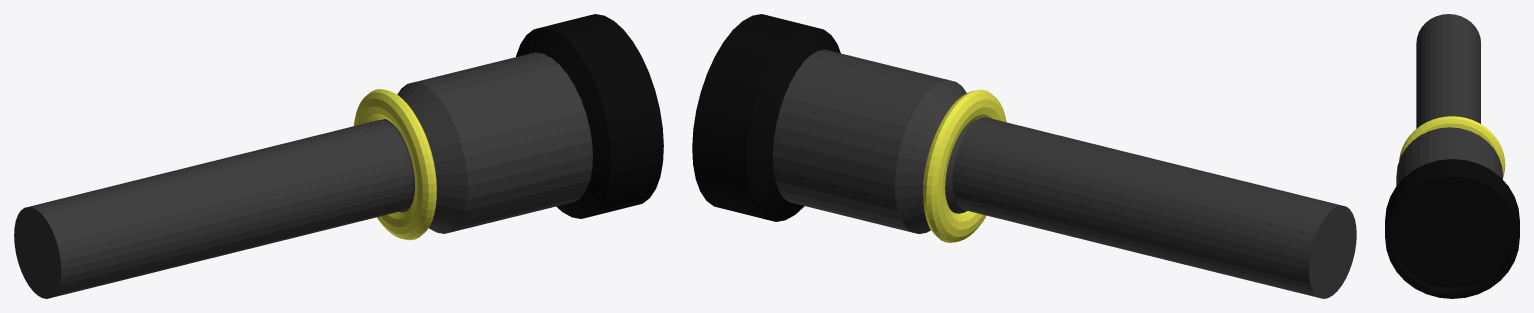
The model's file is Items.fbx_FlashLight.fbx.
The picture shows the model from 3 angles, left to right: view 1: azimuth 30°, elevation 25°; view 2: azimuth 150°, elevation 25°; view 3: azimuth 270°, elevation 25°; orthographic projection. The views are drawn at different scales.
Parts seen in each view (by area): view 1: Cylinder.004, Cylinder.005, Cylinder.006, Torus.001; view 2: Cylinder.004, Cylinder.005, Cylinder.006, Torus.001; view 3: Cylinder.006, Cylinder.004, Cylinder.005, Torus.001.
Boxes of the visible parts, box(x1,y1,x2,y2) form: Cylinder.004: box(14, 119, 412, 298); Cylinder.005: box(382, 52, 592, 233); Cylinder.006: box(516, 14, 663, 218); Torus.001: box(354, 89, 436, 240); Cylinder.004: box(952, 117, 1356, 298); Cylinder.005: box(773, 49, 977, 233); Cylinder.006: box(692, 14, 840, 221); Torus.001: box(923, 89, 1006, 242); Cylinder.006: box(1385, 159, 1519, 298); Cylinder.004: box(1416, 14, 1480, 128); Cylinder.005: box(1396, 127, 1502, 185); Torus.001: box(1399, 116, 1505, 177).
Bounding box in the file's own units: 806 × 237 × 236.
